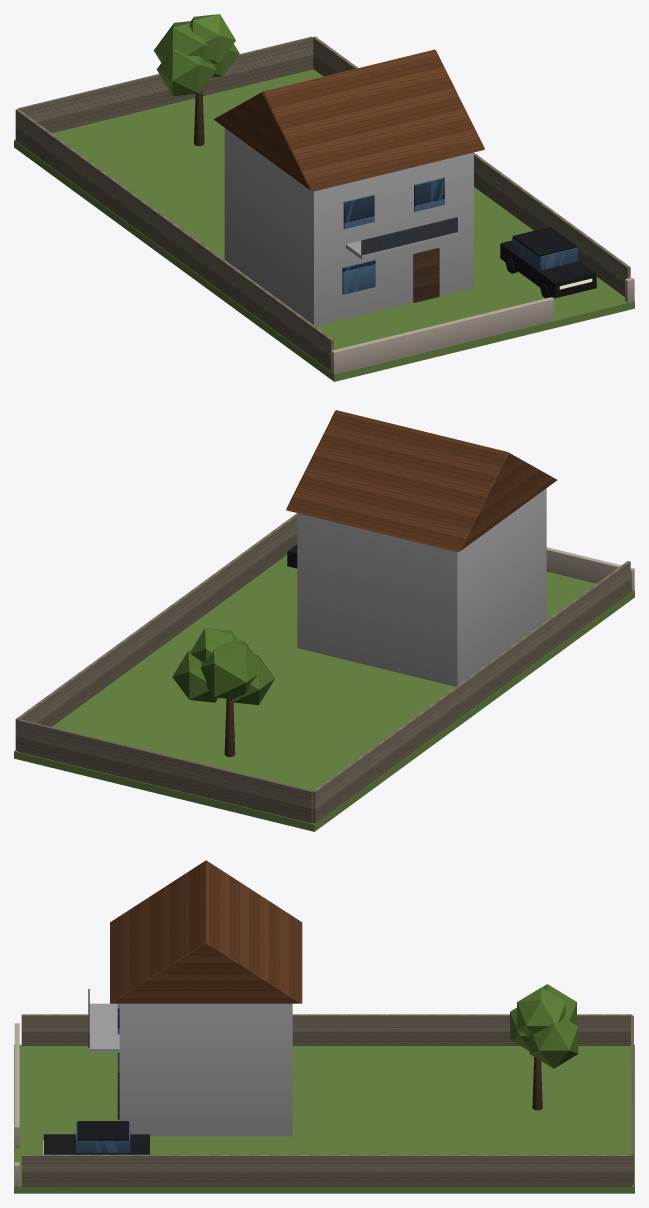
The model's file is sobrado_3.glb.
3 renders of one model, top to bottom at view 1: azimuth 30°, elevation 25°; view 2: azimuth 150°, elevation 25°; view 3: azimuth 270°, elevation 25°, orthographic. The views are drawn at different scales.
Parts seen in each view (by area): view 1: sobrado_3_liso, sobrado_3; view 2: sobrado_3_liso, sobrado_3; view 3: sobrado_3_liso, sobrado_3.
Part boxes in pixels (bbox=[...]): sobrado_3_liso: bbox=[14, 14, 634, 381]; sobrado_3: bbox=[15, 36, 630, 371]; sobrado_3_liso: bbox=[14, 488, 634, 831]; sobrado_3: bbox=[15, 410, 630, 823]; sobrado_3_liso: bbox=[14, 984, 634, 1193]; sobrado_3: bbox=[21, 860, 633, 1186].
Size of the model in its own units: 13 by 8.73 by 24.
Materials: 5 (3 with a texture image).
